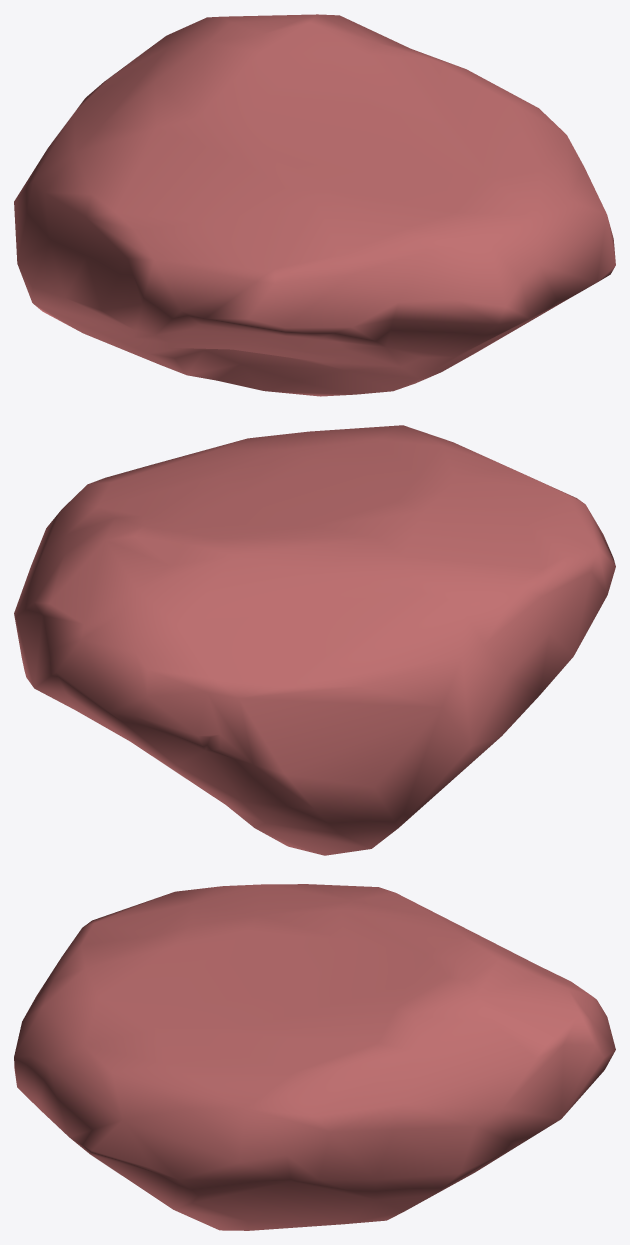
The model's file is SM_Roche_Petit_05.fbx.
The picture shows the model from 3 angles, top to bottom: view 1: azimuth 30°, elevation 25°; view 2: azimuth 150°, elevation 25°; view 3: azimuth 270°, elevation 25°; orthographic projection. The views are drawn at different scales.
Parts seen in each view (by area): view 1: Roche_Petit_05_LP; view 2: Roche_Petit_05_LP; view 3: Roche_Petit_05_LP.
Boxes of the visible parts, x1,y1,x2,y2 form: Roche_Petit_05_LP: [14, 14, 615, 396]; Roche_Petit_05_LP: [14, 425, 615, 855]; Roche_Petit_05_LP: [14, 884, 615, 1230].
Size of the model in its own units: 103 by 57.51 by 118.
